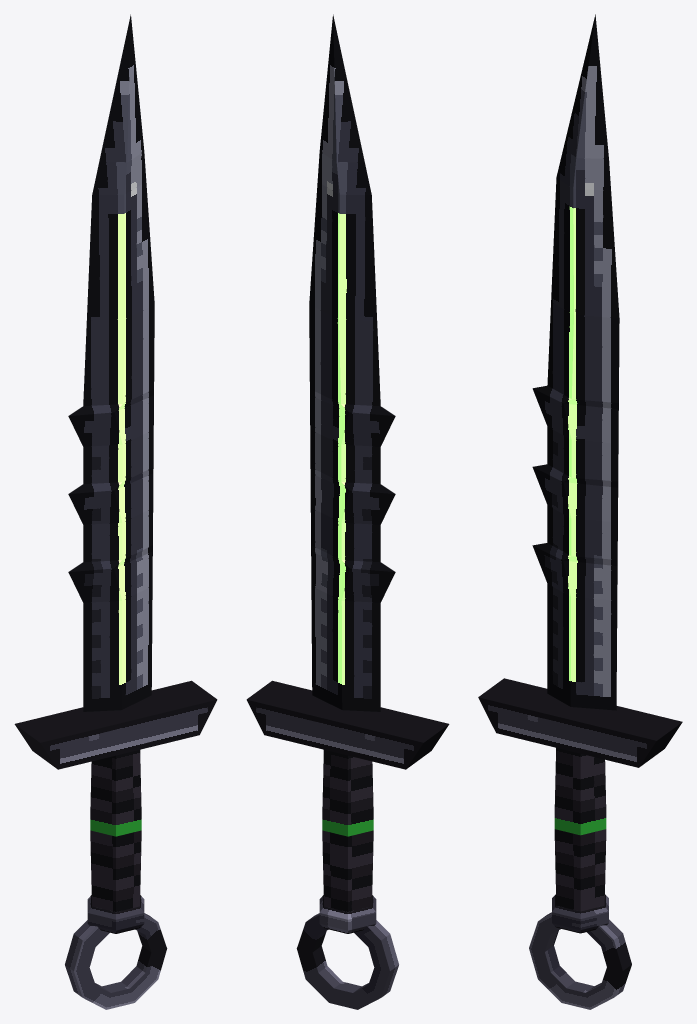
Rendered from dagger_assassin.glb.
3 views of the same model, side by side, from view 1: azimuth 30°, elevation 25°; view 2: azimuth 150°, elevation 25°; view 3: azimuth 330°, elevation 25° (orthographic).
Visible parts, largest first — view 1: dagger_assassin; view 2: dagger_assassin; view 3: dagger_assassin.
Part boxes in pixels (x1=…): dagger_assassin: x1=14, y1=14, x2=217, y2=1009; dagger_assassin: x1=246, y1=14, x2=449, y2=1009; dagger_assassin: x1=478, y1=14, x2=682, y2=1009.
Bounding box in the file's own units: 0.119 × 0.6318 × 0.0329.
Materials: 1 (1 with a texture image).
